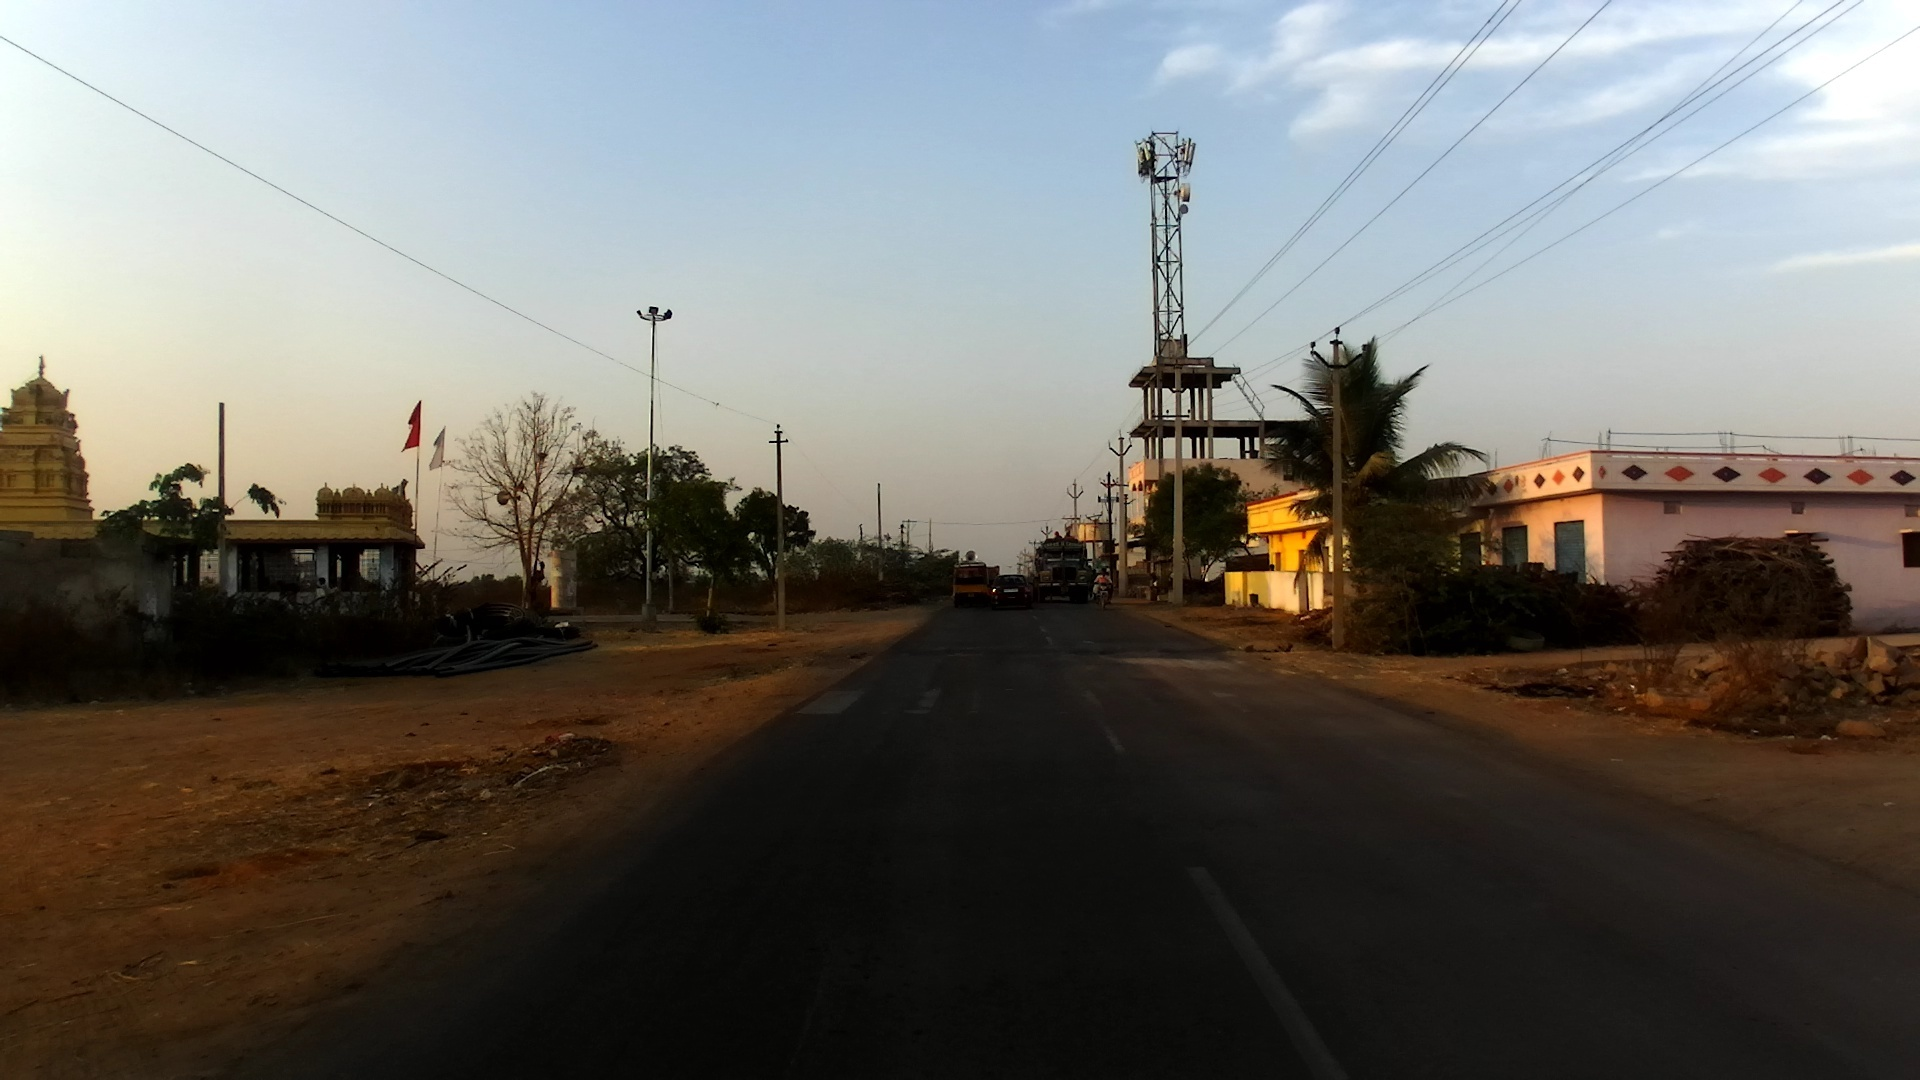autorickshaw: (949, 551, 993, 608)
car: (989, 574, 1032, 610)
motorcycle: (1090, 580, 1115, 611)
rider: (1092, 567, 1112, 605), (1064, 528, 1074, 540), (1052, 530, 1061, 540)
truck: (1031, 537, 1091, 604)
vehicle fallback: (987, 566, 1001, 586)
